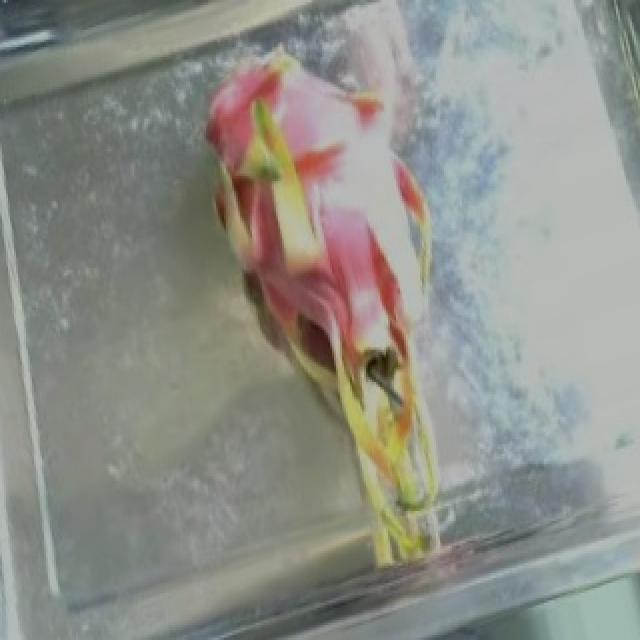fruit: (134, 7, 480, 459)
